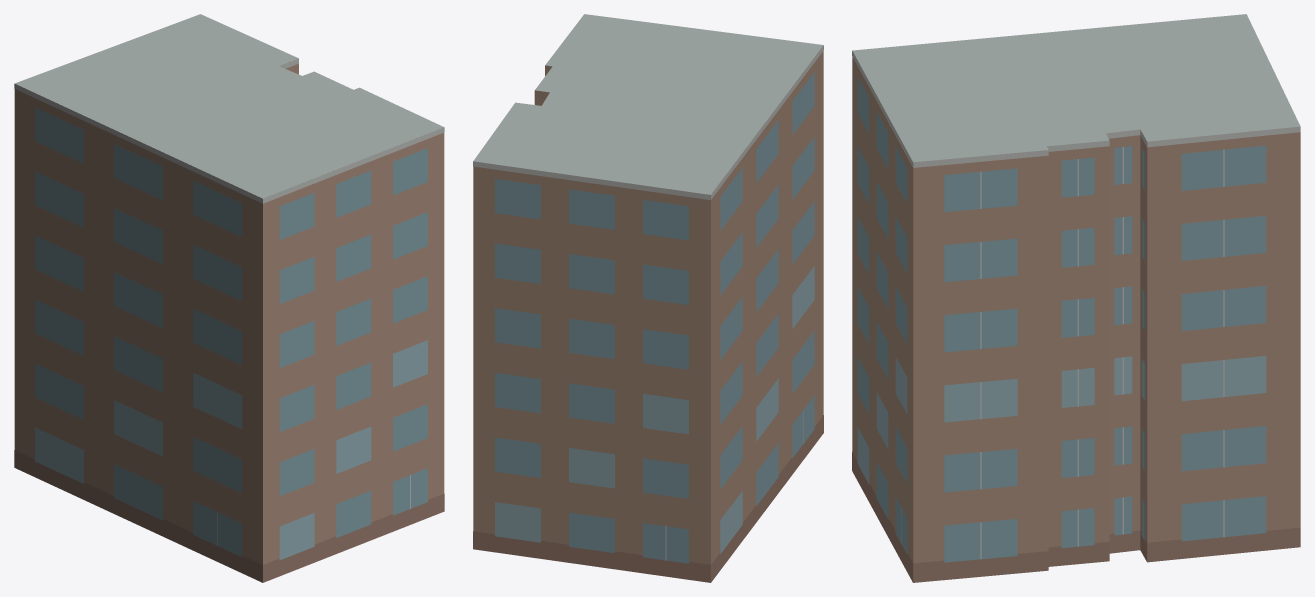
File: survey-upis-32934094.glb
3 views of the same model, side by side, from view 1: azimuth 30°, elevation 25°; view 2: azimuth 150°, elevation 25°; view 3: azimuth 270°, elevation 25° (orthographic). The views are drawn at different scales.
Parts seen in each view (by area): view 1: survey-upis-32934094.tmp; view 2: survey-upis-32934094.tmp; view 3: survey-upis-32934094.tmp.
Part boxes in pixels (x1=…): survey-upis-32934094.tmp: x1=14, y1=14, x2=444, y2=582; survey-upis-32934094.tmp: x1=473, y1=14, x2=823, y2=582; survey-upis-32934094.tmp: x1=852, y1=14, x2=1300, y2=582.
Bounding box in the file's own units: 13.85 × 18.3 × 17.7.
